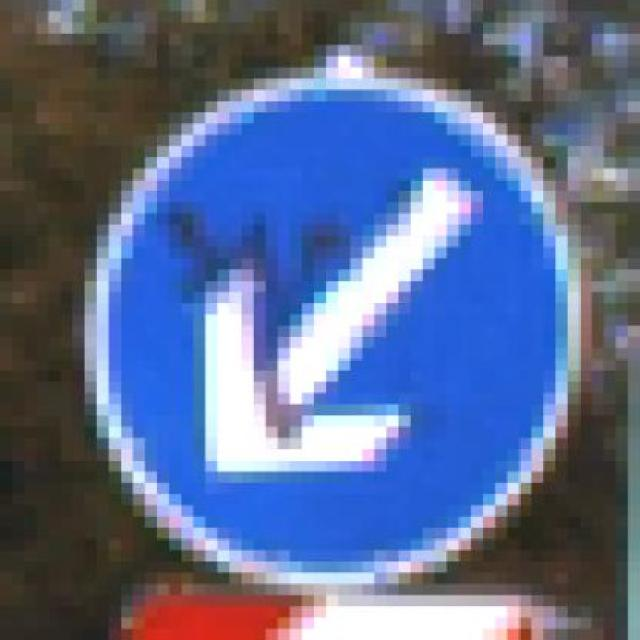Keep-Left: (60, 56, 592, 584)
